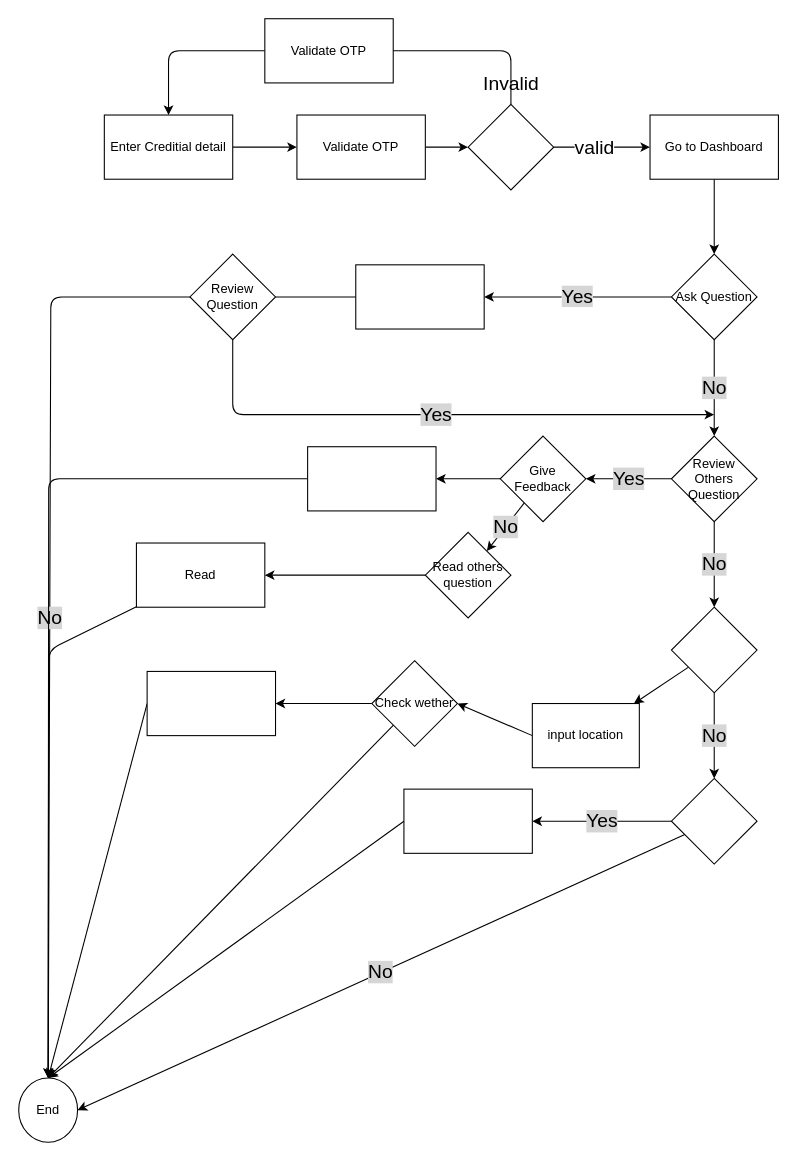
Some shapes in this 797 by 1161 pixel diagram are drawn without their labels. Each missing label, with the box of its shape:
Ask A question: (355, 264, 484, 329)
Check price: (670, 777, 757, 864)
Check Weather: (670, 606, 757, 693)
Display: (146, 670, 276, 736)
Display Price: (403, 788, 532, 853)
Give other answer: (307, 446, 436, 511)
